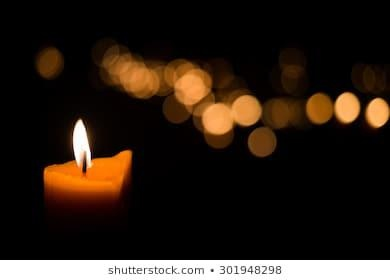fire: (69, 114, 93, 171)
